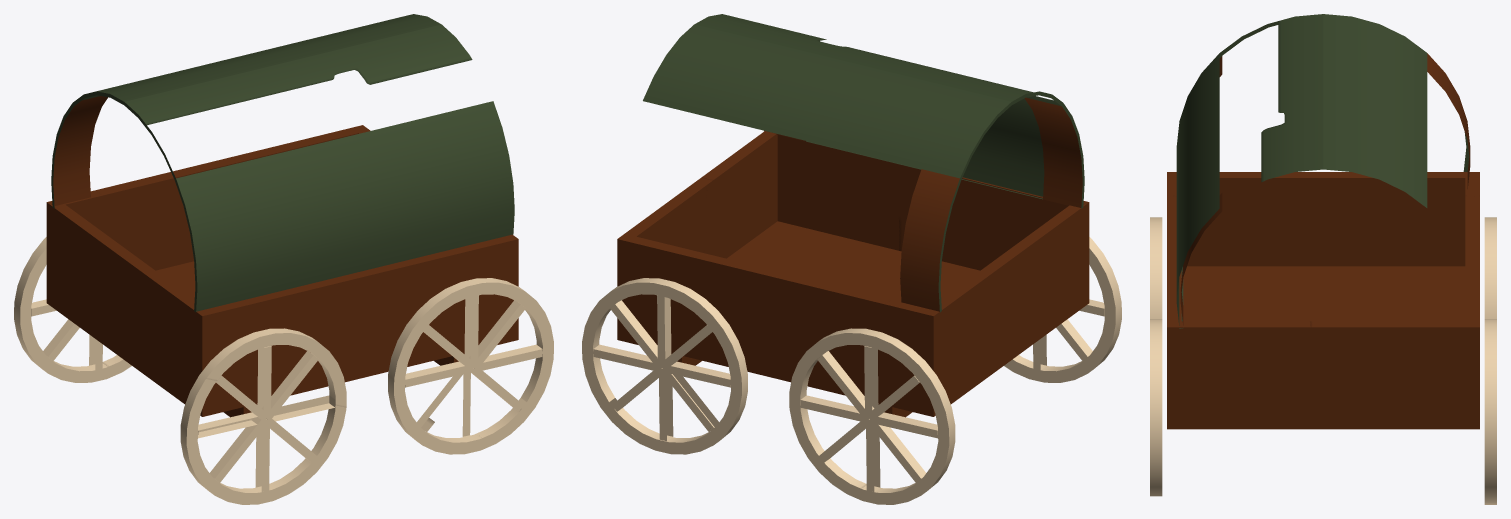
File: new_wagon.fbx
3 views of the same model, side by side, from view 1: azimuth 30°, elevation 25°; view 2: azimuth 150°, elevation 25°; view 3: azimuth 270°, elevation 25° (orthographic).
Visible parts, largest first — view 1: new_wagon, BR, FR, BL; view 2: new_wagon, BL, FL, BR; view 3: new_wagon, FL, FR, BR, BL.
Part boxes in pixels (x1,y1,x2,y2): new_wagon: (46, 14, 518, 417); BR: (180, 328, 346, 504); FR: (388, 278, 553, 454); BL: (14, 237, 131, 382); new_wagon: (617, 14, 1089, 417); BL: (789, 328, 955, 504); FL: (582, 278, 747, 454); BR: (1004, 237, 1121, 382); new_wagon: (1167, 14, 1479, 429); FL: (1484, 319, 1496, 504); FR: (1150, 319, 1162, 496); BR: (1150, 217, 1162, 318); BL: (1484, 217, 1496, 318).
Bounding box in the file's own units: 640 × 586 × 522.
